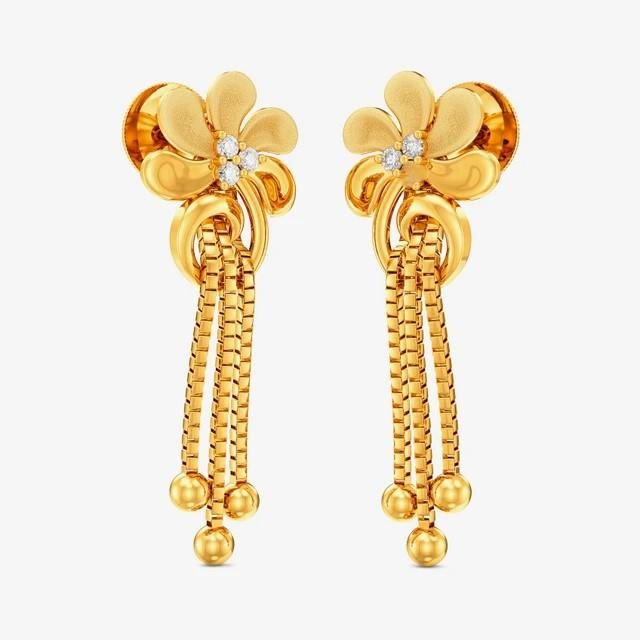missing gem: (404, 162, 424, 182)
